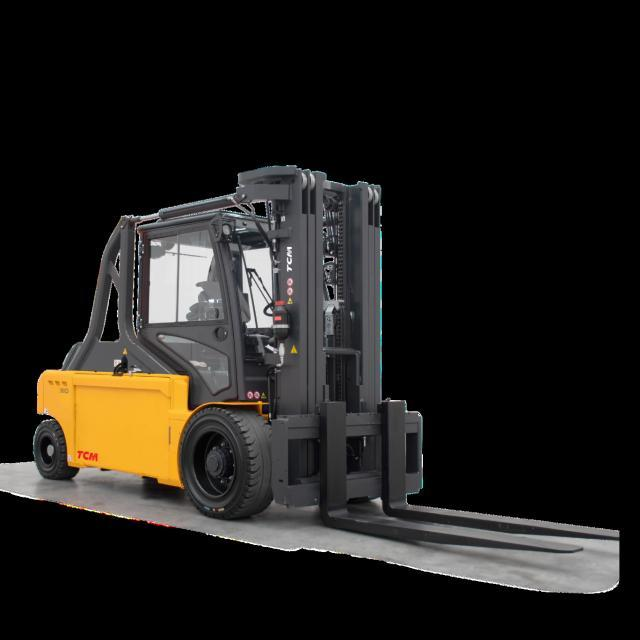forklift: (27, 149, 444, 524)
